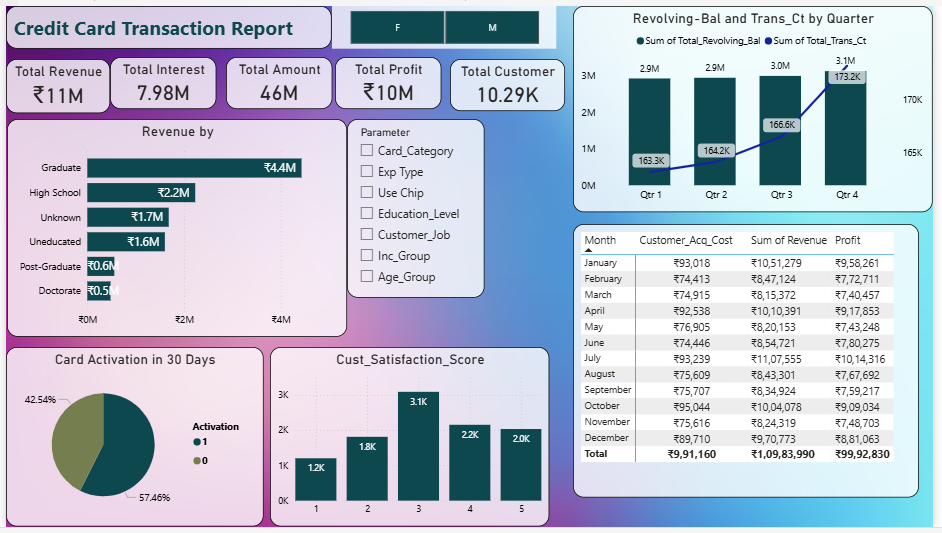

Layout of this report page (visuals, bound fields, positions):
{"tool":"powerbi","page":{"name":"Page 1","canvas":[1280,720],"ordinal":0},"visuals":[{"type":"card","title":"Total Revenue","fields":{"Values":["Sum(credit_card.Revenue)"]},"box":[0,73.5,144,74.9],"z":0},{"type":"card","title":"Total Interest","fields":{"Values":["Sum(credit_card.Interest_Earned)"]},"box":[144,70.5,146.9,72],"z":1000},{"type":"card","title":"Total Amount","fields":{"Values":["Sum(credit_card.Total_Trans_Amt)"]},"box":[304.2,70.5,146.9,72],"z":2000},{"type":"slicer","fields":{"Values":["Parameter.Parameter"]},"box":[471.7,155.8,189.6,246.9],"z":3000},{"type":"barChart","fields":{"Category":["credit_card.Card_Category","credit_card.Exp Type","credit_card.Use Chip","customer.Education_Level","customer.Customer_Job","customer.Inc_Group","customer.Age_Group"],"Y":["Sum(credit_card.Revenue)"]},"box":[1.5,155.8,470.2,301.2],"z":4000},{"type":"lineStackedColumnComboChart","title":"Revolving-Bal and Trans_Ct by Quarter","fields":{"Y2":["Sum(credit_card.Total_Trans_Ct)"],"Category":["credit_card.Week_Start_Date.Variation.Date Hierarchy.Quarter"],"Y":["Sum(credit_card.Total_Revolving_Bal)"]},"box":[783.2,0,496.7,285.1],"z":5000},{"type":"textbox","box":[0,0,449.6,58.8],"z":6000},{"type":"card","title":"Total Customer","fields":{"Values":["CountNonNull(customer.Client_Num)"]},"box":[614.2,73.5,158.7,72],"z":7000},{"type":"pivotTable","fields":{"Rows":["credit_card.Week_Start_Date.Variation.Date Hierarchy.Month"],"Values":["Sum(credit_card.Customer_Acq_Cost)","Sum(credit_card.Revenue)","credit_card.Profit"]},"box":[783.2,301.2,477.6,377.6],"z":8000},{"type":"pieChart","title":"Card Activation in 30 Days ","fields":{"Category":["credit_card.Activation_30_Days"],"Y":["Divide(CountNonNull(credit_card.Activation_30_Days), ScopedEval(CountNonNull(credit_card.Activation_30_Days), []))"]},"box":[0,471.7,355.6,248.3],"z":9000},{"type":"columnChart","title":" Cust_Satisfaction_Score","fields":{"Category":["customer.Cust_Satisfaction_Score"],"Y":["CountNonNull(customer.Client_Num)"]},"box":[364.4,471.7,386.4,248.3],"z":10000},{"type":"card","title":"Total Profit","fields":{"Values":["credit_card.Profit"]},"box":[454,70.5,146.9,72],"z":11000},{"type":"slicer","fields":{"Values":["customer.Gender"]},"box":[451.1,0,310,58.8],"z":12000}]}

Visuals, with their boxes in screenshot pixels (x1, y1, x2, y2), scaled from the page's 1280x720 canvas onto the 942x533 screenshot:
"Total Revenue" card: (x1=0, y1=54, x2=106, y2=110)
"Total Interest" card: (x1=106, y1=52, x2=214, y2=105)
"Total Amount" card: (x1=224, y1=52, x2=332, y2=105)
slicer - Parameter.Parameter: (x1=347, y1=115, x2=487, y2=298)
barChart - credit_card.Card_Category x credit_card.Exp Type: (x1=1, y1=115, x2=347, y2=338)
"Revolving-Bal and Trans_Ct by Quarter" lineStackedColumnComboChart: (x1=576, y1=0, x2=941, y2=211)
textbox: (x1=0, y1=0, x2=331, y2=44)
"Total Customer" card: (x1=452, y1=54, x2=569, y2=108)
pivotTable - credit_card.Week_Start_Date.Variation.Date Hierarchy.Month x Sum(credit_card.Customer_Acq_Cost): (x1=576, y1=223, x2=928, y2=503)
"Card Activation in 30 Days " pieChart: (x1=0, y1=349, x2=262, y2=532)
" Cust_Satisfaction_Score" columnChart: (x1=268, y1=349, x2=553, y2=532)
"Total Profit" card: (x1=334, y1=52, x2=442, y2=105)
slicer - customer.Gender: (x1=332, y1=0, x2=560, y2=44)
